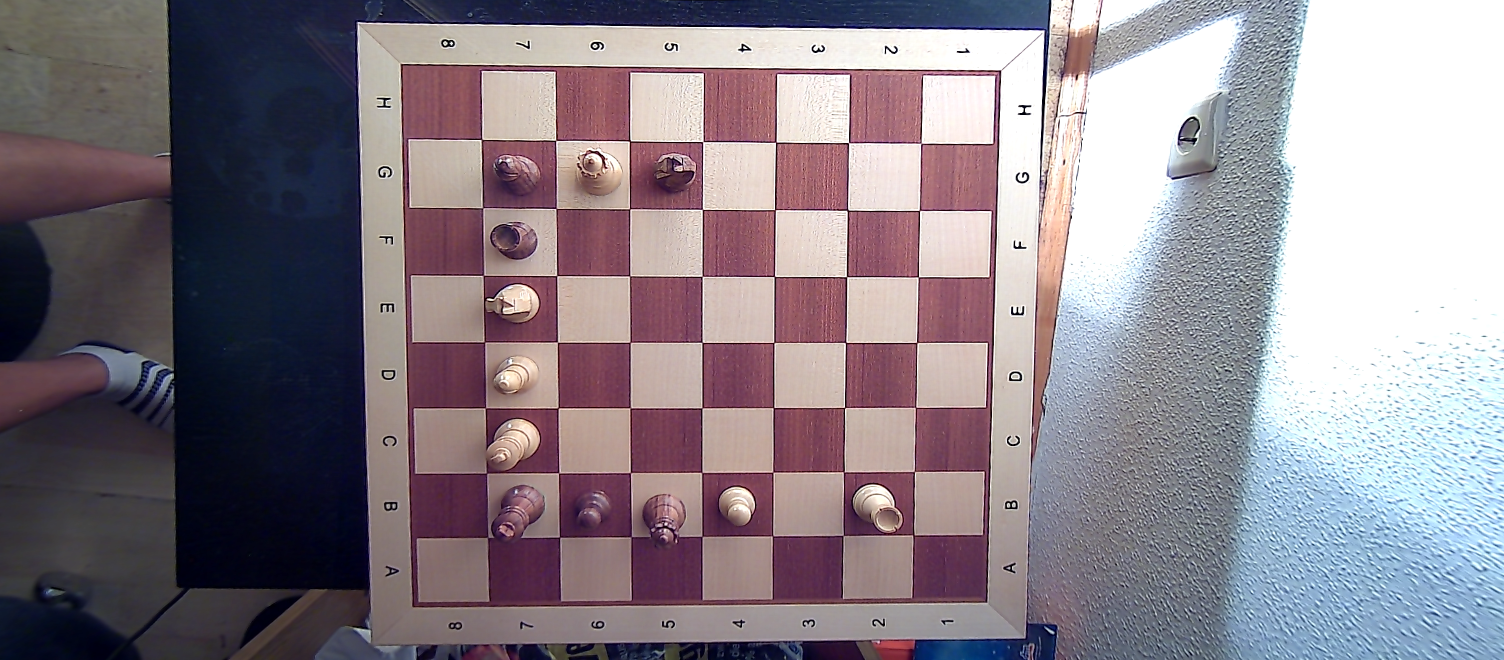black-bishop: (489, 150, 545, 196)
black-king: (491, 482, 548, 549)
black-knight: (647, 149, 701, 195)
black-pawn: (569, 488, 612, 533)
black-queen: (640, 492, 689, 547)
black-rook: (487, 216, 539, 265)
white-bishop: (488, 351, 542, 399)
white-king: (485, 414, 543, 475)
white-knight: (481, 278, 541, 327)
white-pawn: (715, 482, 758, 528)
white-queen: (571, 144, 624, 200)
white-rook: (851, 478, 910, 537)
